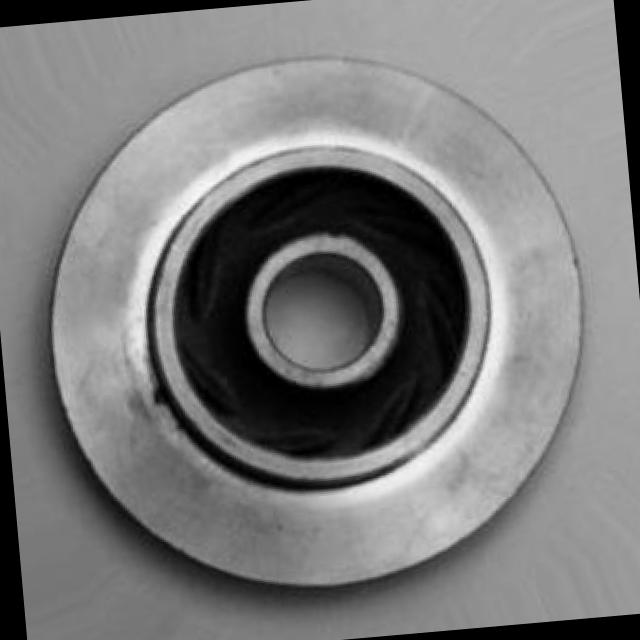Defect: (136, 379, 181, 414)
